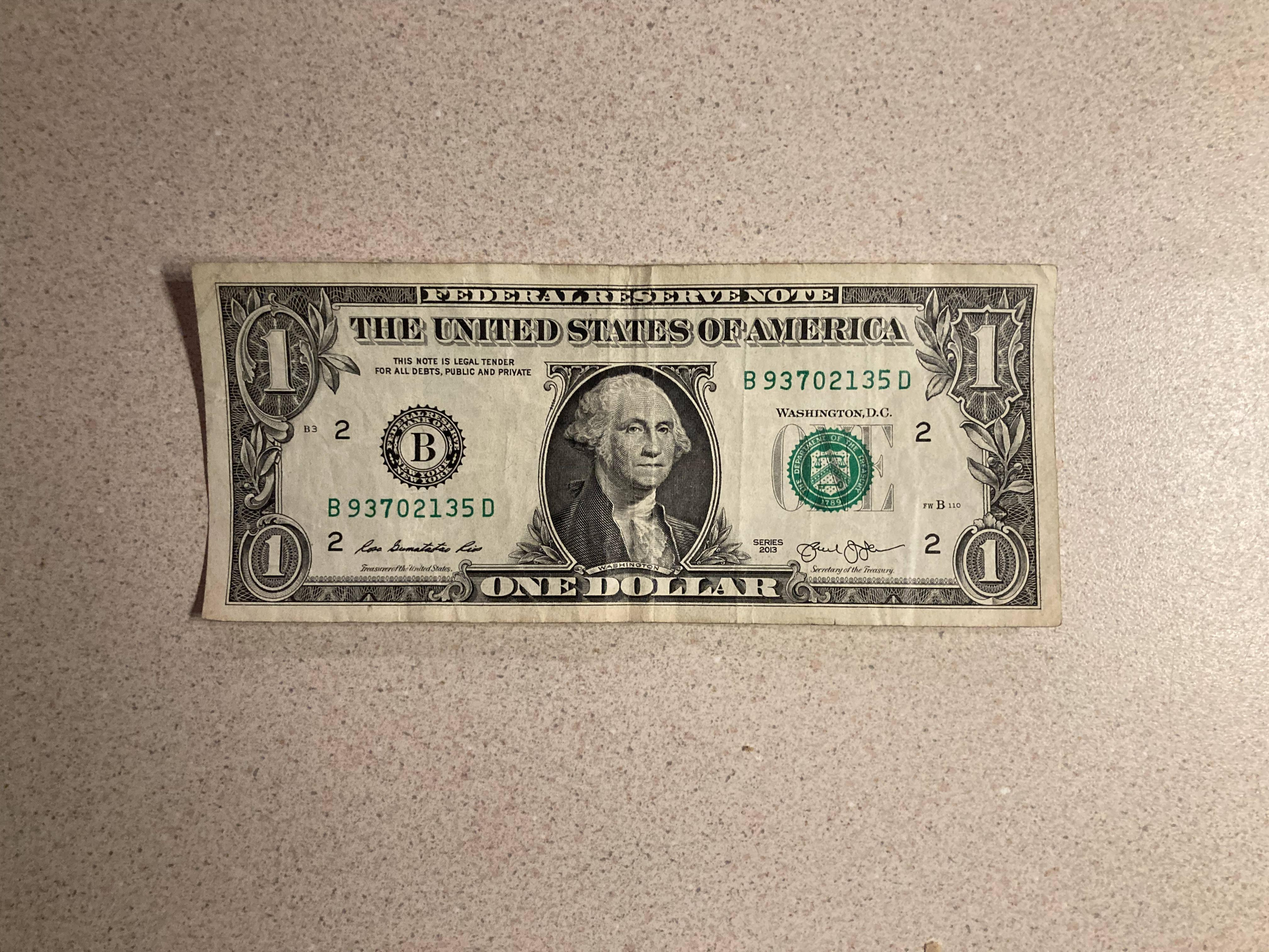one-front: (189, 260, 1066, 629)
